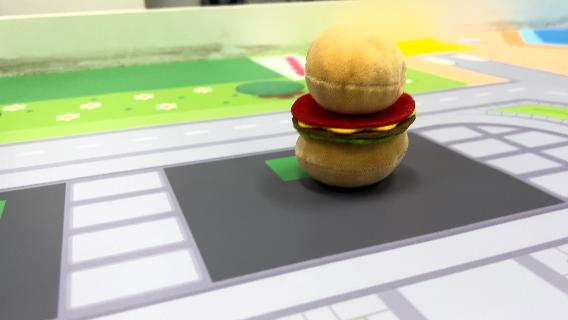burger: (287, 22, 421, 190)
